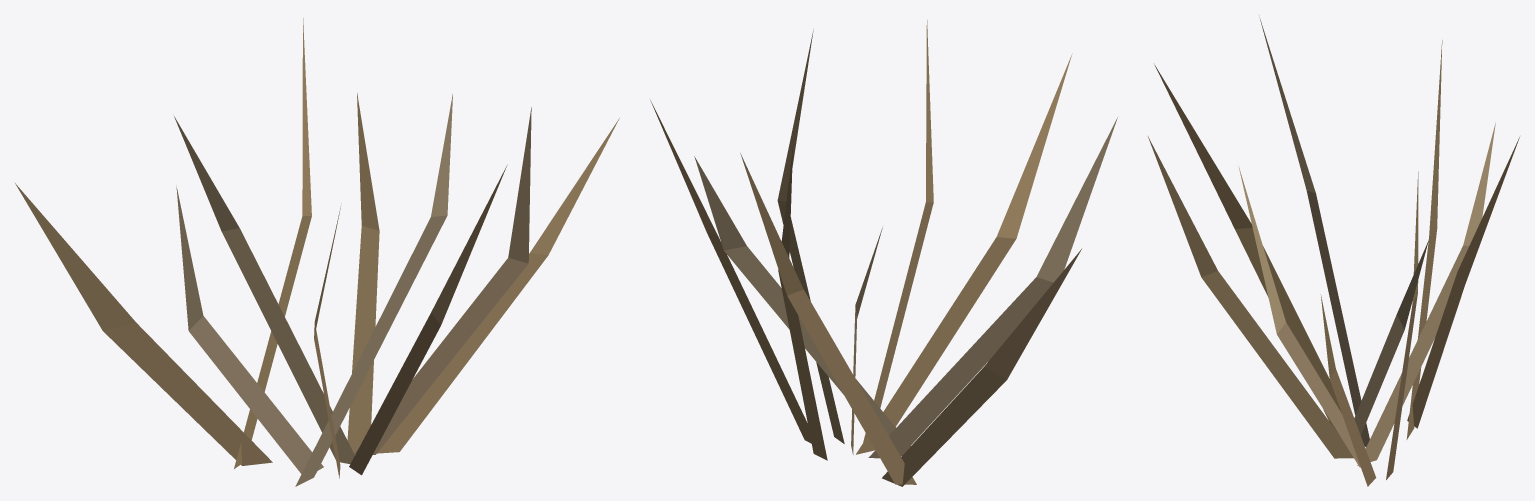
File: Dead_Bush_b_04.fbx
The picture shows the model from 3 angles, left to right: view 1: azimuth 30°, elevation 25°; view 2: azimuth 150°, elevation 25°; view 3: azimuth 270°, elevation 25°; orthographic projection. The views are drawn at different scales.
Visible parts, largest first — view 1: Dead_Bush_b_04; view 2: Dead_Bush_b_04; view 3: Dead_Bush_b_04.
Boxes of the visible parts, x1,y1,x2,y2 form: Dead_Bush_b_04: (15,18,619,486); Dead_Bush_b_04: (650,20,1117,486); Dead_Bush_b_04: (1148,15,1519,486).
Bounding box in the file's own units: 0.8558 × 0.5848 × 0.5621.
